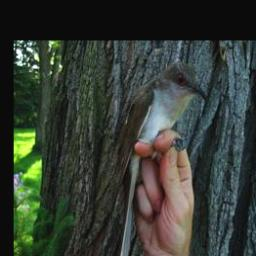Cuckoo: (106, 60, 211, 256)
